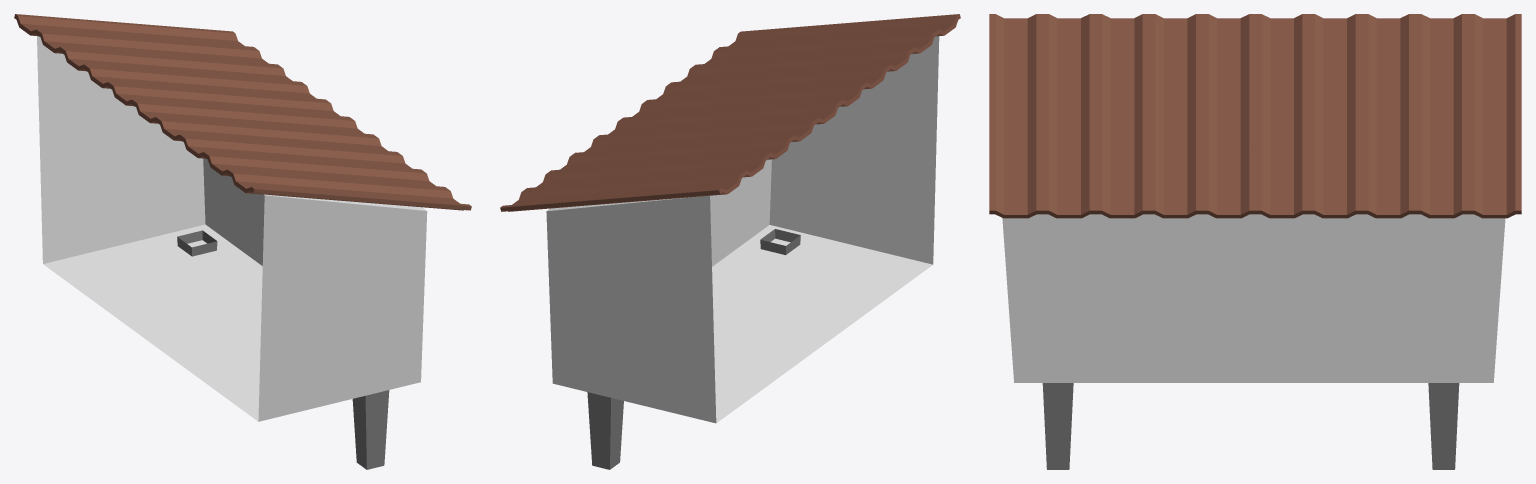
Rendered from Tavern  (Annex).fbx.
3 views of the same model, side by side, from view 1: azimuth 30°, elevation 25°; view 2: azimuth 150°, elevation 25°; view 3: azimuth 270°, elevation 25° (orthographic). The views are drawn at different scales.
Parts seen in each view (by area): view 1: Tavern (Annex); view 2: Tavern (Annex); view 3: Tavern (Annex).
Boxes of the visible parts, box(x1,y1,x2,y2) form: Tavern (Annex): box(14, 14, 471, 469); Tavern (Annex): box(500, 14, 960, 469); Tavern (Annex): box(989, 14, 1521, 469).
Size of the model in its own units: 578 by 837 by 1087.
